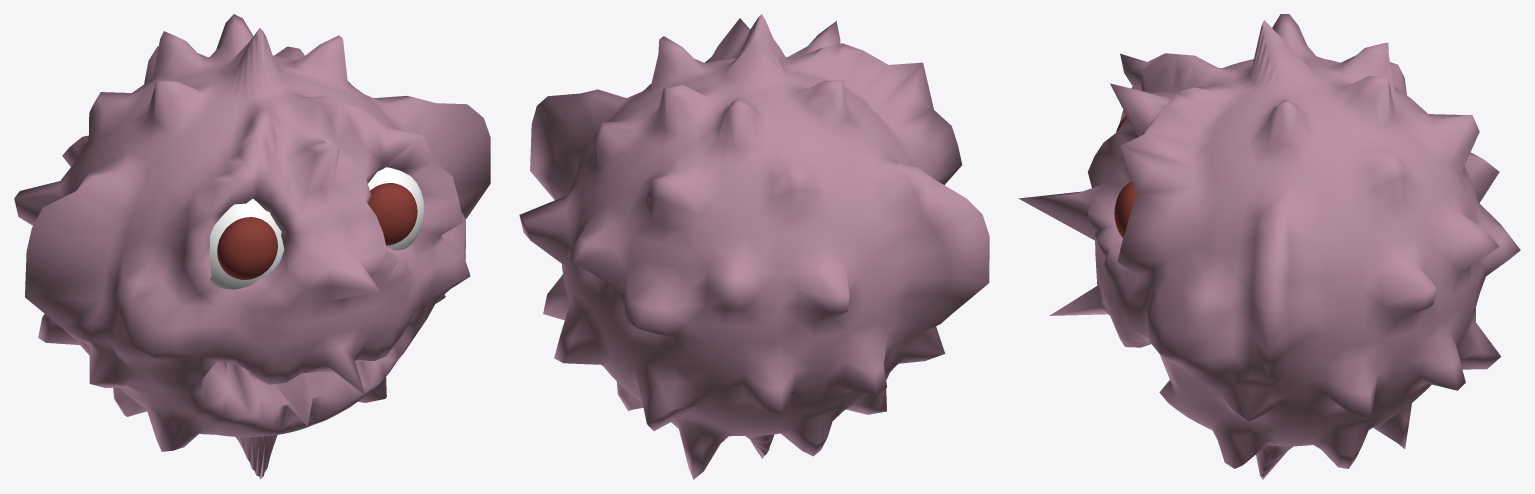
File: herbivore.fbx
3 views of the same model, side by side, from view 1: azimuth 30°, elevation 25°; view 2: azimuth 150°, elevation 25°; view 3: azimuth 270°, elevation 25° (orthographic). The views are drawn at different scales.
Visible parts, largest first — view 1: Sphere, Sphere.003, Sphere.001, Sphere.004, Sphere.002; view 2: Sphere; view 3: Sphere, Sphere.004.
Part boxes in pixels (x1=…): Sphere: x1=14, y1=14, x2=490, y2=479; Sphere.003: x1=217, y1=217, x2=277, y2=279; Sphere.001: x1=209, y1=198, x2=284, y2=289; Sphere.004: x1=368, y1=183, x2=417, y2=245; Sphere.002: x1=368, y1=167, x2=424, y2=250; Sphere: x1=519, y1=14, x2=989, y2=479; Sphere: x1=1018, y1=14, x2=1520, y2=479; Sphere.004: x1=1114, y1=181, x2=1136, y2=237.
Bounding box in the file's own units: 265 × 245 × 243.
